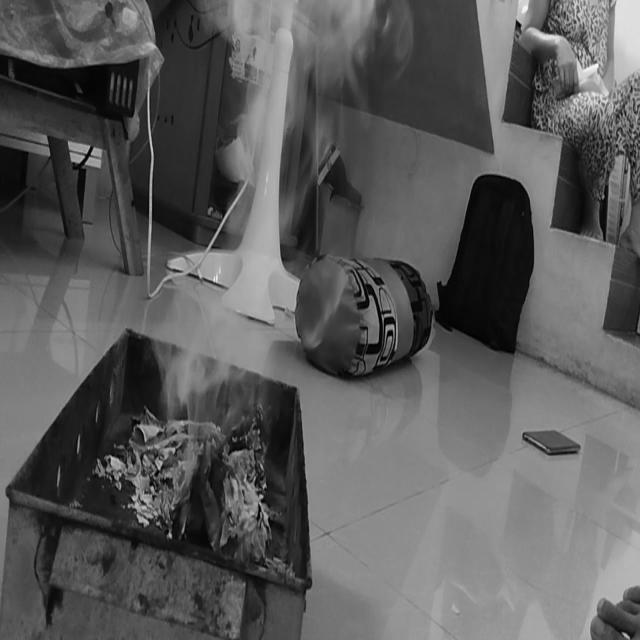fire: (206, 0, 382, 260), (157, 271, 276, 410)
